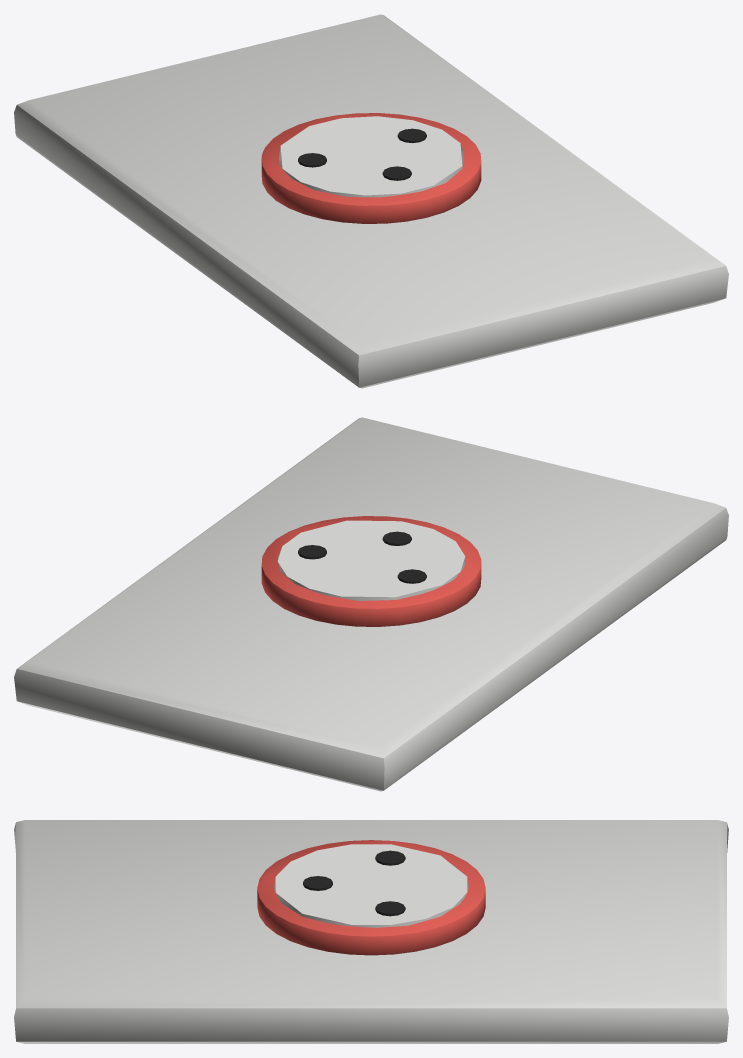
The model's file is ELE-TOM-002_lod1.glb.
3 renders of one model, top to bottom at view 1: azimuth 30°, elevation 25°; view 2: azimuth 150°, elevation 25°; view 3: azimuth 270°, elevation 25°, orthographic. The views are drawn at different scales.
Visible parts, largest first — view 1: ELE-TOM-002_placa, ELE-TOM-002_rebaixo, ELE-TOM-002_modulo; view 2: ELE-TOM-002_placa, ELE-TOM-002_rebaixo, ELE-TOM-002_modulo; view 3: ELE-TOM-002_placa, ELE-TOM-002_rebaixo, ELE-TOM-002_modulo, ELE-TOM-002_pino-0.00950.003, ELE-TOM-002_pino0-0.0085, ELE-TOM-002_pino0.00950.003.
Boxes of the visible parts, <box> form: ELE-TOM-002_placa: <box>14,14,728,388</box>; ELE-TOM-002_rebaixo: <box>279,116,463,197</box>; ELE-TOM-002_modulo: <box>261,113,481,223</box>; ELE-TOM-002_placa: <box>14,417,728,791</box>; ELE-TOM-002_rebaixo: <box>277,520,465,600</box>; ELE-TOM-002_modulo: <box>261,516,481,626</box>; ELE-TOM-002_placa: <box>14,820,728,1043</box>; ELE-TOM-002_rebaixo: <box>274,844,468,927</box>; ELE-TOM-002_modulo: <box>257,840,485,955</box>; ELE-TOM-002_pino-0.00950.003: <box>375,850,405,865</box>; ELE-TOM-002_pino0-0.0085: <box>303,876,332,890</box>; ELE-TOM-002_pino0.00950.003: <box>375,901,405,916</box>.
Bounding box in the file's own units: 0.072 × 0.0127 × 0.1135.
